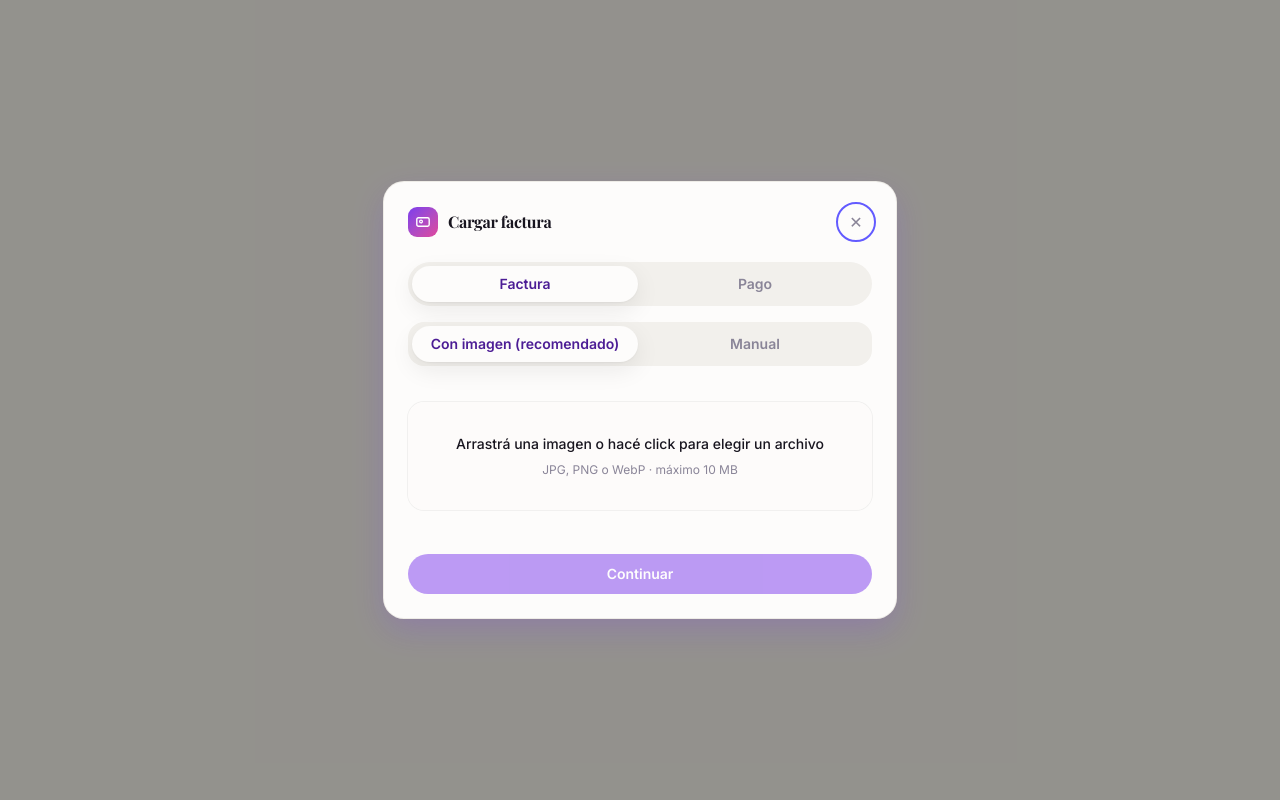
it: CargaModal — basic render and origen step › toggling to Manual swaps the dropzone for the manual explanation and enables Continuar
The width and height of the screenshot is (1280, 800).
What coordinates should you click on to do the following:
click the button "Manual"
I would click on:
 (755, 344)
Its box is [642, 326, 868, 362].
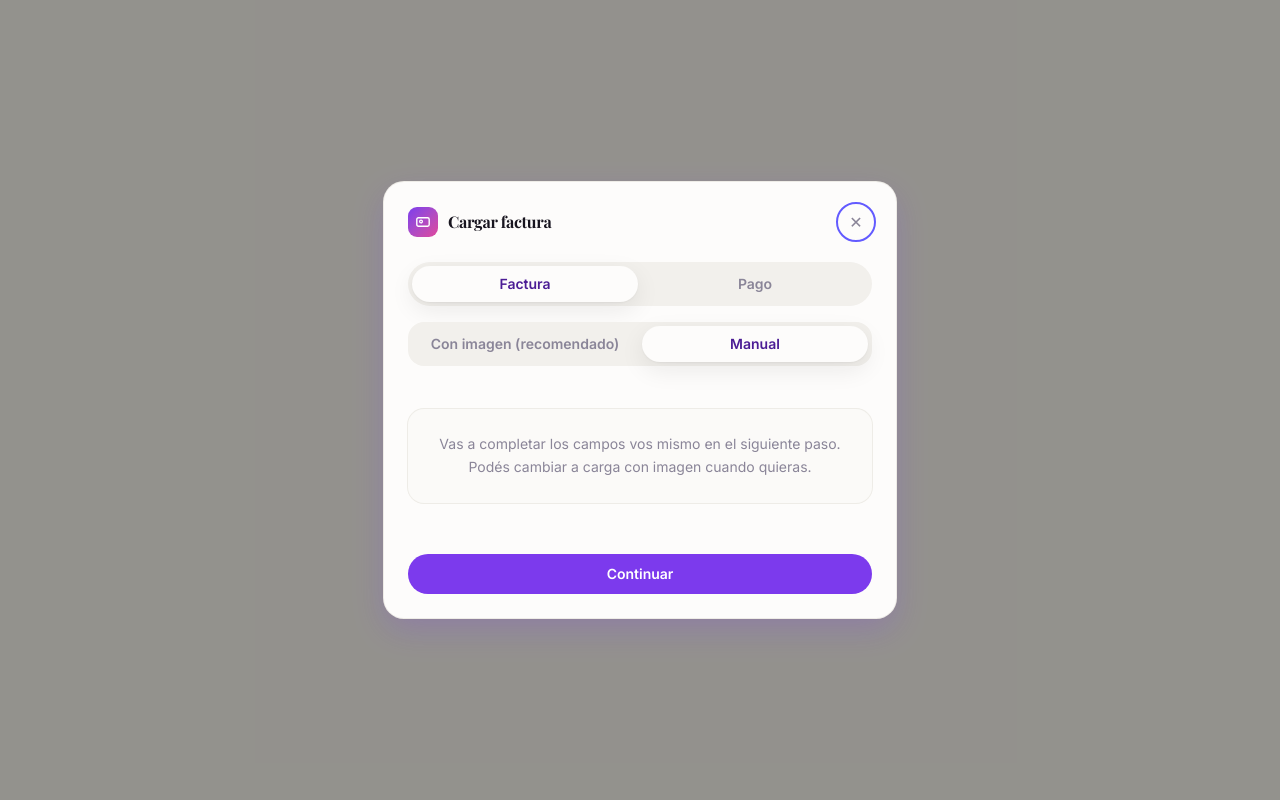
Now the element with test id "imagen-picker-dropzone" is gone
Now the text "completar los campos vos mismo" is shown, box [439, 435, 841, 475]
Now the button "Continuar" is enabled, box [408, 554, 872, 594]
